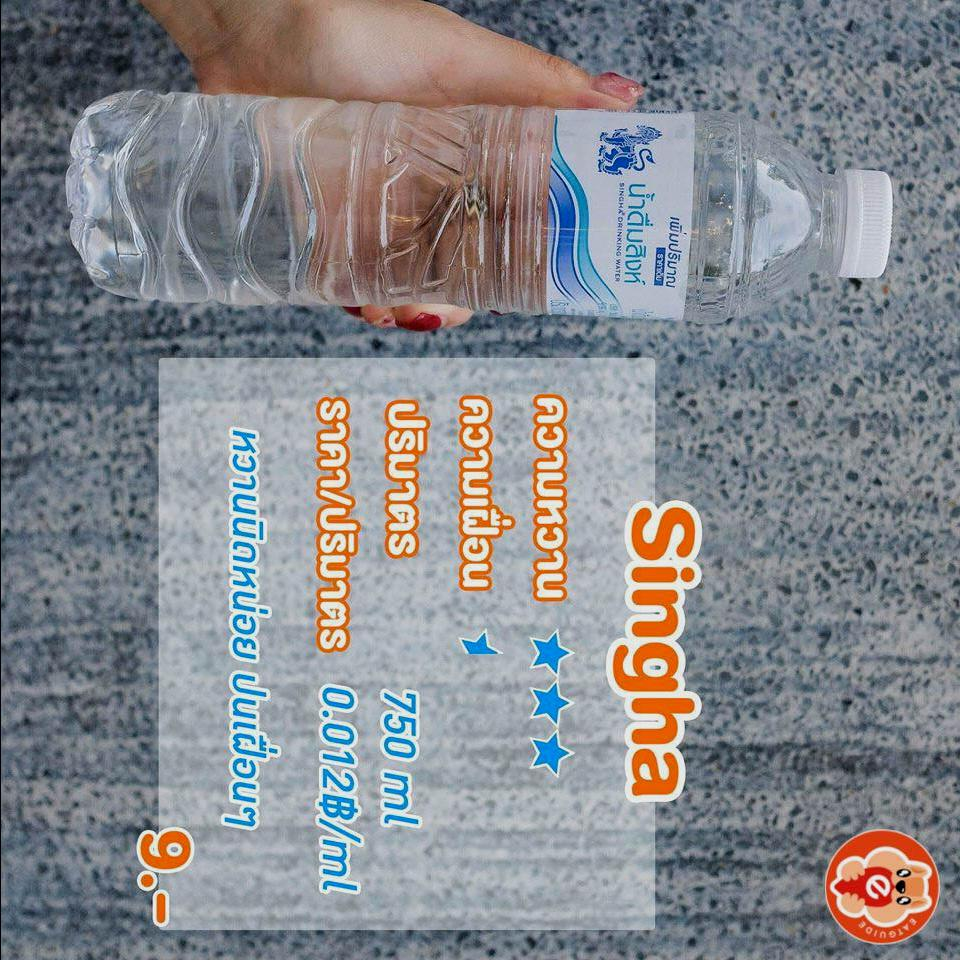bottle: (54, 76, 905, 328)
